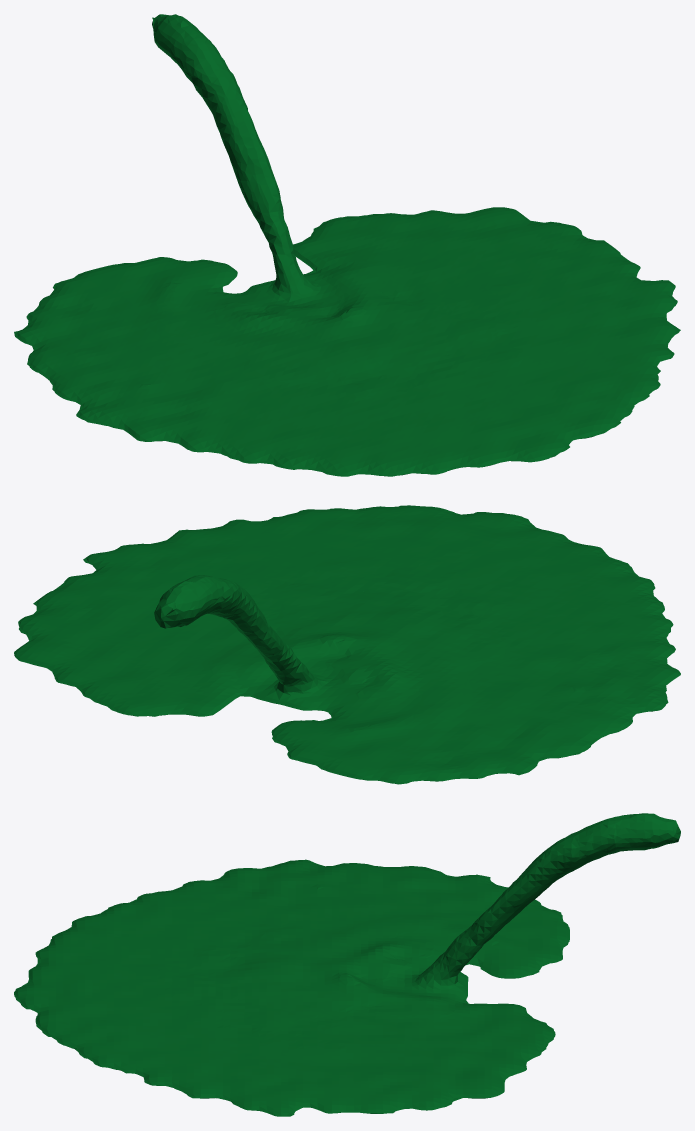
The model's file is fluid_26.fbx.
3 views of the same model, one above another, from view 1: azimuth 30°, elevation 25°; view 2: azimuth 150°, elevation 25°; view 3: azimuth 270°, elevation 25° (orthographic). The views are drawn at different scales.
Visible parts, largest first — view 1: Cube; view 2: Cube; view 3: Cube.
Boxes of the visible parts, x1,y1,x2,y2 form: Cube: [14, 14, 680, 476]; Cube: [14, 505, 680, 784]; Cube: [14, 813, 680, 1116].
Size of the model in its own units: 549 by 177 by 602.
